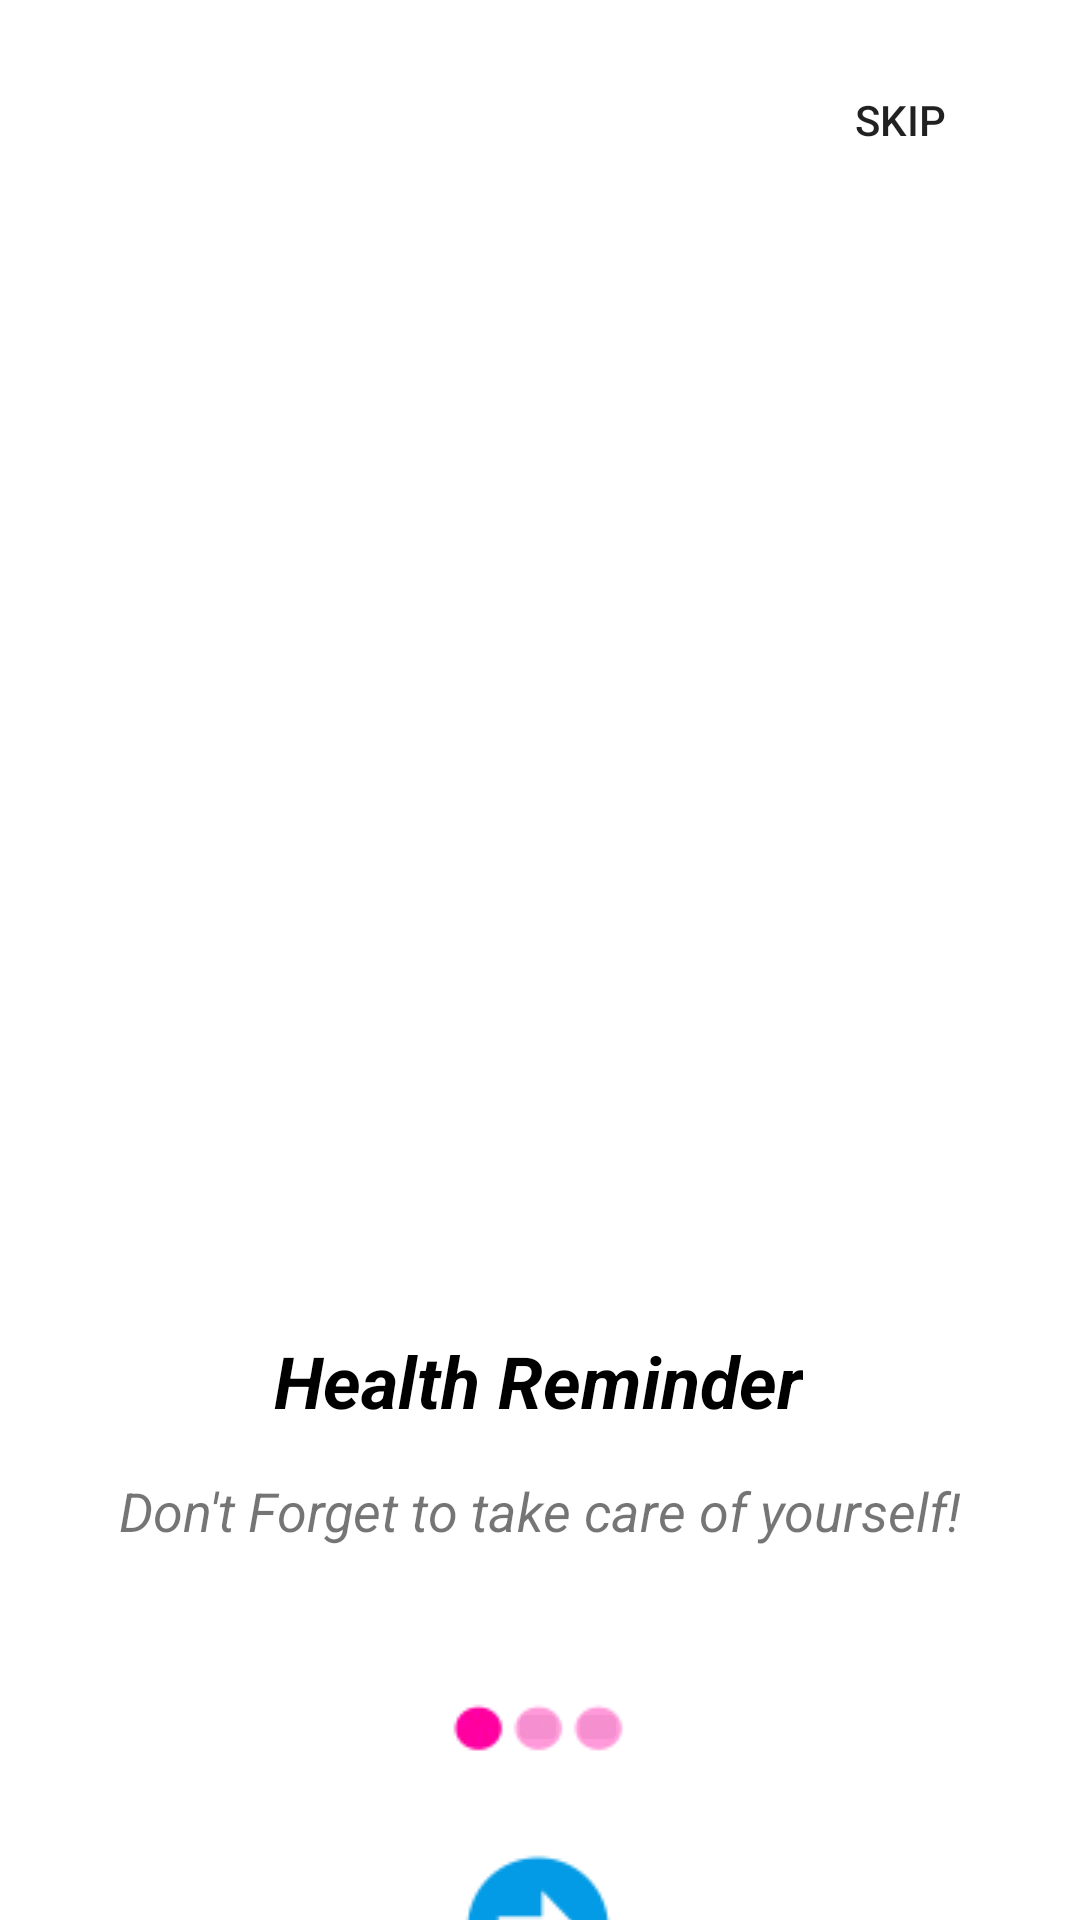

Icon bounding boxes for this 1080x1920 phone screenshot, format {"x1": x1, "y1": y1, "x2": x2, "y2": y2}:
dot: {"x1": 453, "y1": 1705, "x2": 503, "y2": 1751}, {"x1": 514, "y1": 1706, "x2": 563, "y2": 1751}, {"x1": 574, "y1": 1706, "x2": 623, "y2": 1751}
